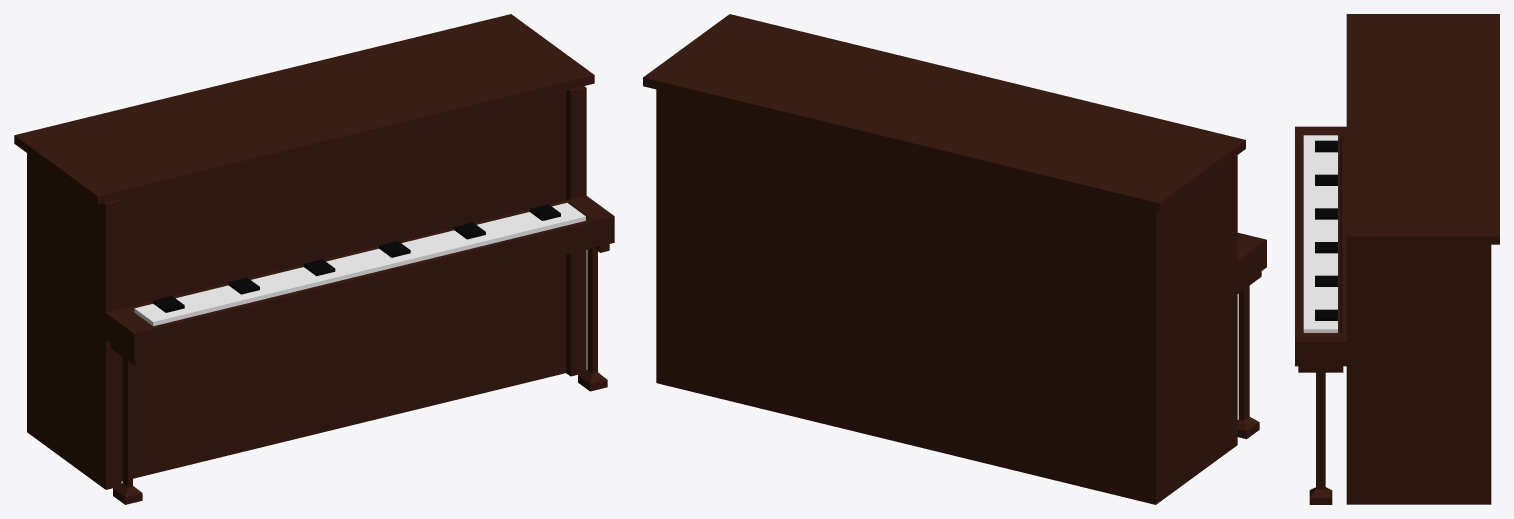
File: Piano 2.FBX
3 renders of one model, left to right at view 1: azimuth 30°, elevation 25°; view 2: azimuth 150°, elevation 25°; view 3: azimuth 270°, elevation 25°, orthographic. The views are drawn at different scales.
Visible parts, largest first — view 1: Box001, White, Black keys; view 2: Box001; view 3: Box001, White, Black keys.
Boxes of the visible parts, bbox=[...] form: Box001: bbox=[14, 14, 614, 504]; White: bbox=[134, 203, 585, 326]; Black keys: bbox=[153, 204, 560, 312]; Box001: bbox=[643, 14, 1266, 504]; Box001: bbox=[1295, 14, 1499, 504]; White: bbox=[1303, 135, 1337, 332]; Black keys: bbox=[1315, 140, 1337, 320].
Bounding box in the file's own units: 122 × 69.52 × 47.55.
